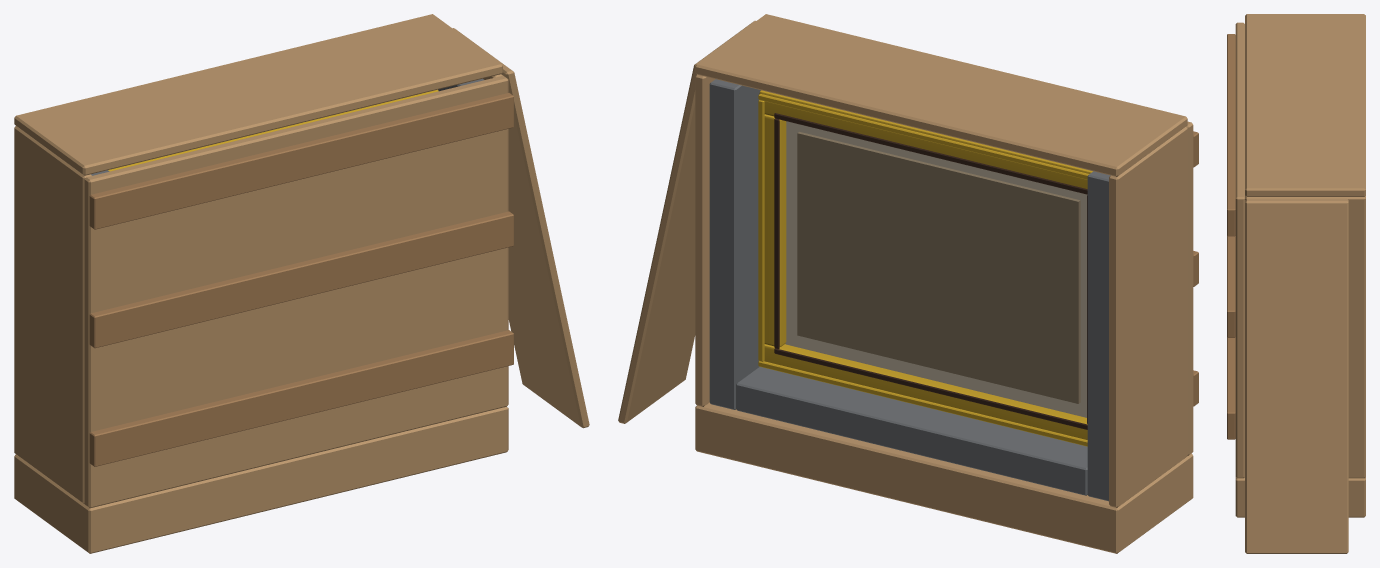
The model's file is prop_canvas_study3_crate.glb.
The picture shows the model from 3 angles, left to right: view 1: azimuth 30°, elevation 25°; view 2: azimuth 150°, elevation 25°; view 3: azimuth 270°, elevation 25°; orthographic projection. The views are drawn at different scales.
Visible parts, largest first — view 1: Crate, Lid, Canvas; view 2: Crate, Paint, Canvas, Lid; view 3: Lid, Crate.
Boxes of the visible parts, left/top/right/bottom form: Crate: left=14, top=14, right=513, bottom=553; Lid: left=453, top=28, right=589, bottom=428; Canvas: left=108, top=89, right=438, bottom=171; Crate: left=695, top=14, right=1198, bottom=553; Paint: left=797, top=132, right=1080, bottom=403; Canvas: left=758, top=90, right=1092, bottom=446; Lid: left=618, top=20, right=755, bottom=423; Lid: left=1245, top=198, right=1348, bottom=553; Crate: left=1227, top=14, right=1365, bottom=517.
Bounding box in the file's own units: 1.16 × 0.842 × 0.322.
